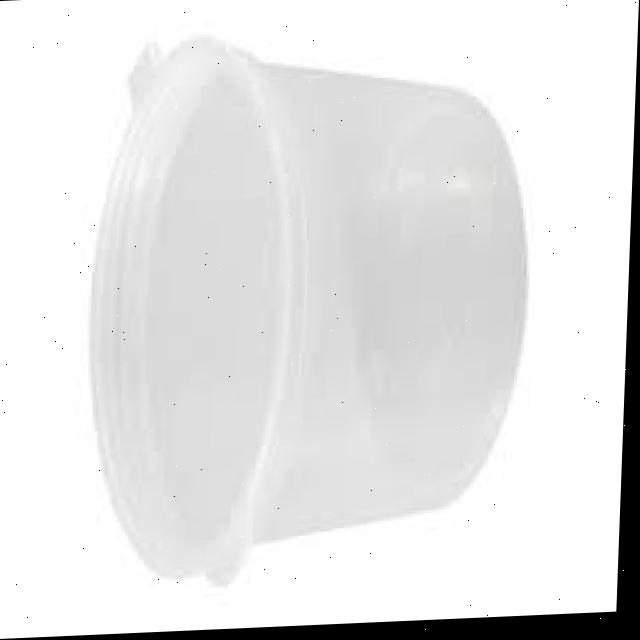disposable: (68, 12, 549, 599)
